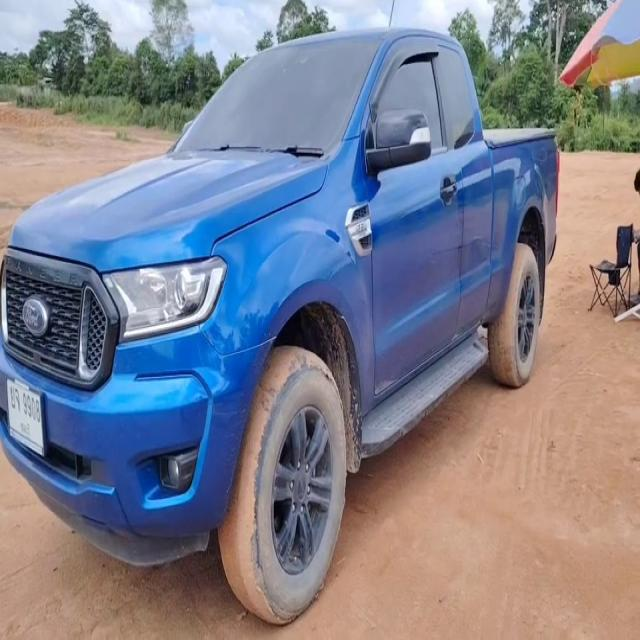Digit: (22, 392, 41, 424)
Licenseplate: (6, 377, 44, 457)
Provincename: (19, 419, 31, 440)
Thaichar: (10, 384, 21, 413)
